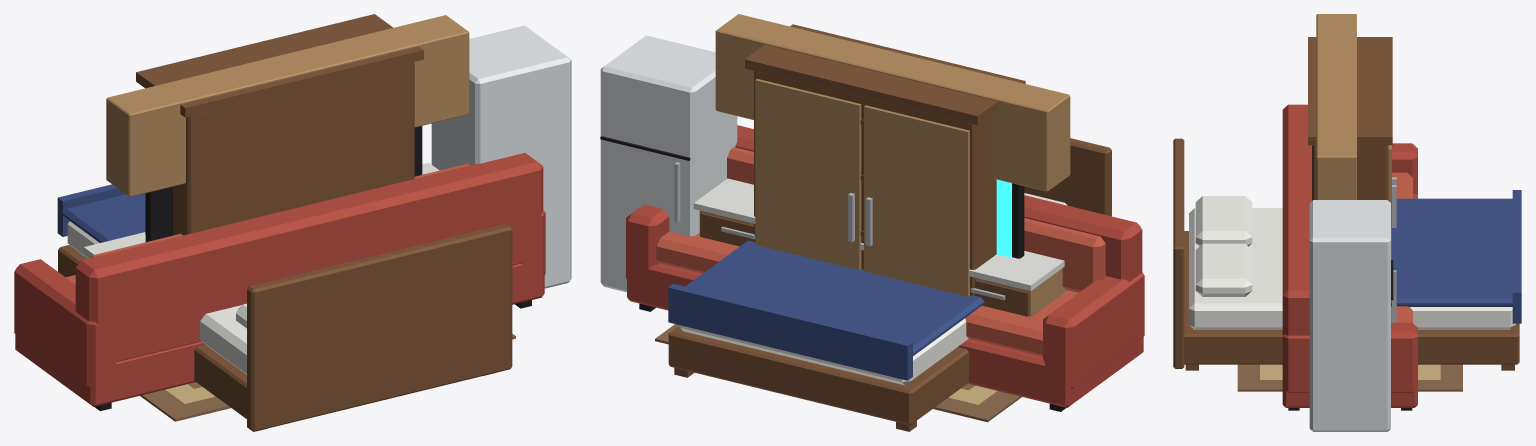
The model's file is safehouse_set.glb.
The picture shows the model from 3 angles, left to right: view 1: azimuth 30°, elevation 25°; view 2: azimuth 150°, elevation 25°; view 3: azimuth 270°, elevation 25°; orthographic projection. The views are drawn at different scales.
Parts seen in each view (by area): view 1: sofa, bed, kitchen, wardrobe, rug, tv; view 2: wardrobe, kitchen, bed, sofa, tv, rug; view 3: bed, kitchen, sofa, wardrobe, rug.
Part boxes in pixels (<box>): sofa: <box>14,153,545,411</box>; bed: <box>57,184,512,431</box>; kitchen: <box>83,15,571,288</box>; wardrobe: <box>136,14,423,235</box>; rug: <box>140,334,515,421</box>; tv: <box>145,126,422,241</box>; wardrobe: <box>745,24,1025,296</box>; kitchen: <box>600,14,1070,316</box>; bed: <box>668,138,1111,431</box>; sofa: <box>626,125,1144,411</box>; tv: <box>996,179,1024,258</box>; rug: <box>655,324,1021,422</box>; bed: <box>1173,138,1521,370</box>; kitchen: <box>1309,14,1396,431</box>; sofa: <box>1282,104,1417,410</box>; wardrobe: <box>1308,37,1396,259</box>; rug: <box>1237,364,1462,391</box>.
Size of the model in its own units: 4.39 by 2.3 by 3.09.
